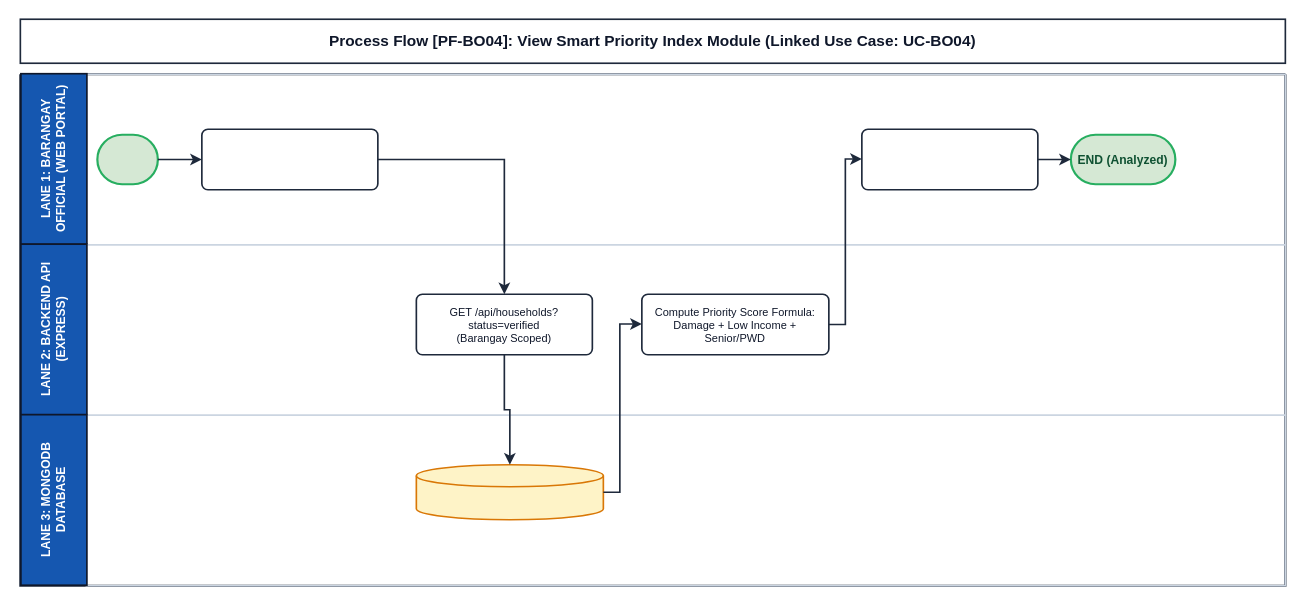
Image size: 1305x606. Some labels were removed from this diagram. Here are the shapes that lost their labels. From the top down, the centre of each, then its label:
At (x=127, y=159): "START".
At (x=289, y=159): "Open Smart Priority Dashboard in Web Portal".
At (x=949, y=159): "Render Ranked Registry Table Sorted by Critical Need (Tier 1/2/3)".
At (x=509, y=491): "MongoDB: Query Households with Damage Severity & Roster Vulnerabilities".
